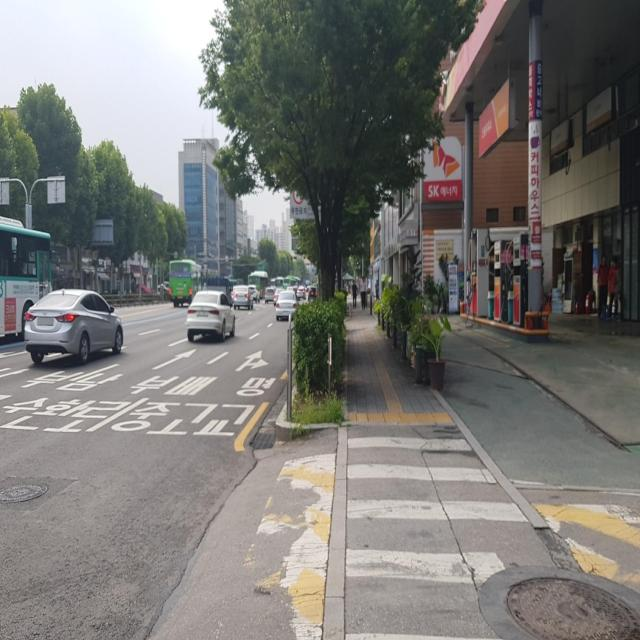횡단보도: (343, 434, 530, 640)
